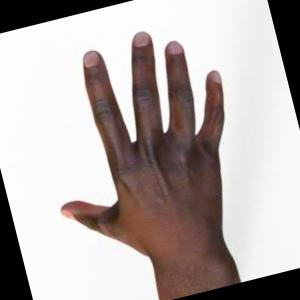paper: (62, 32, 240, 300)
